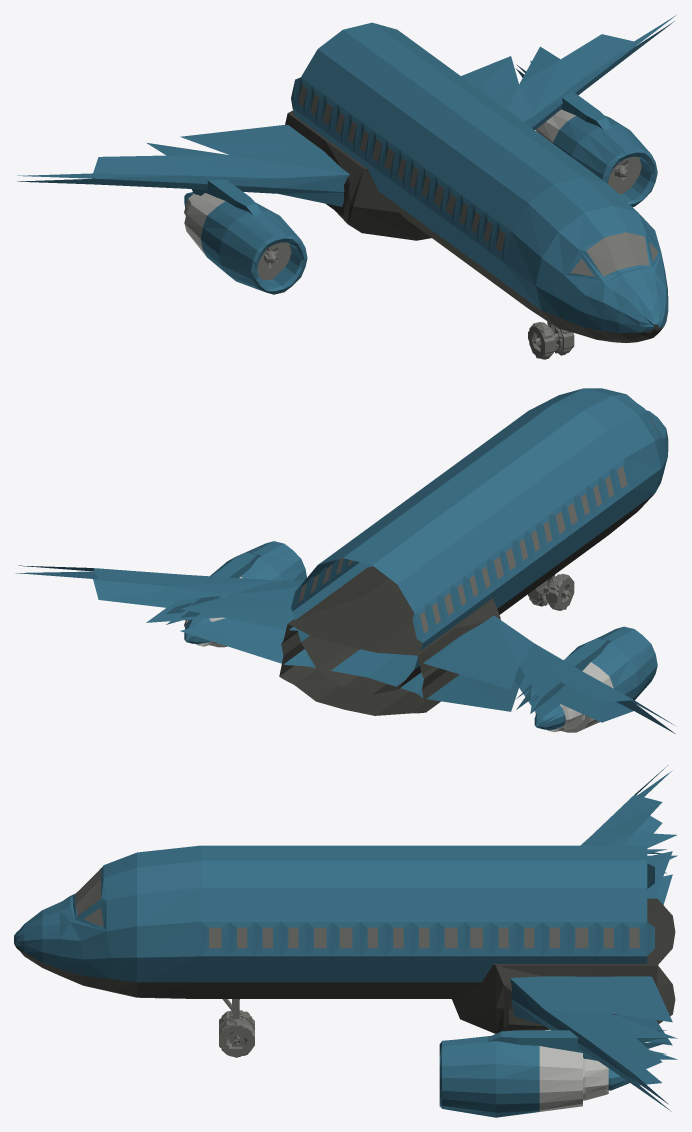
Rendered from staging_aircraft_fore.obj.
3 renders of one model, top to bottom at view 1: azimuth 30°, elevation 25°; view 2: azimuth 150°, elevation 25°; view 3: azimuth 270°, elevation 25°, orthographic. The views are drawn at different scales.
Size of the model in its own units: 17.36 by 4.67 by 14.23.
